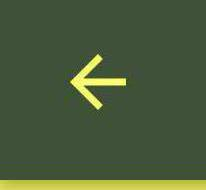ImgButton: (1, 1, 205, 189)
